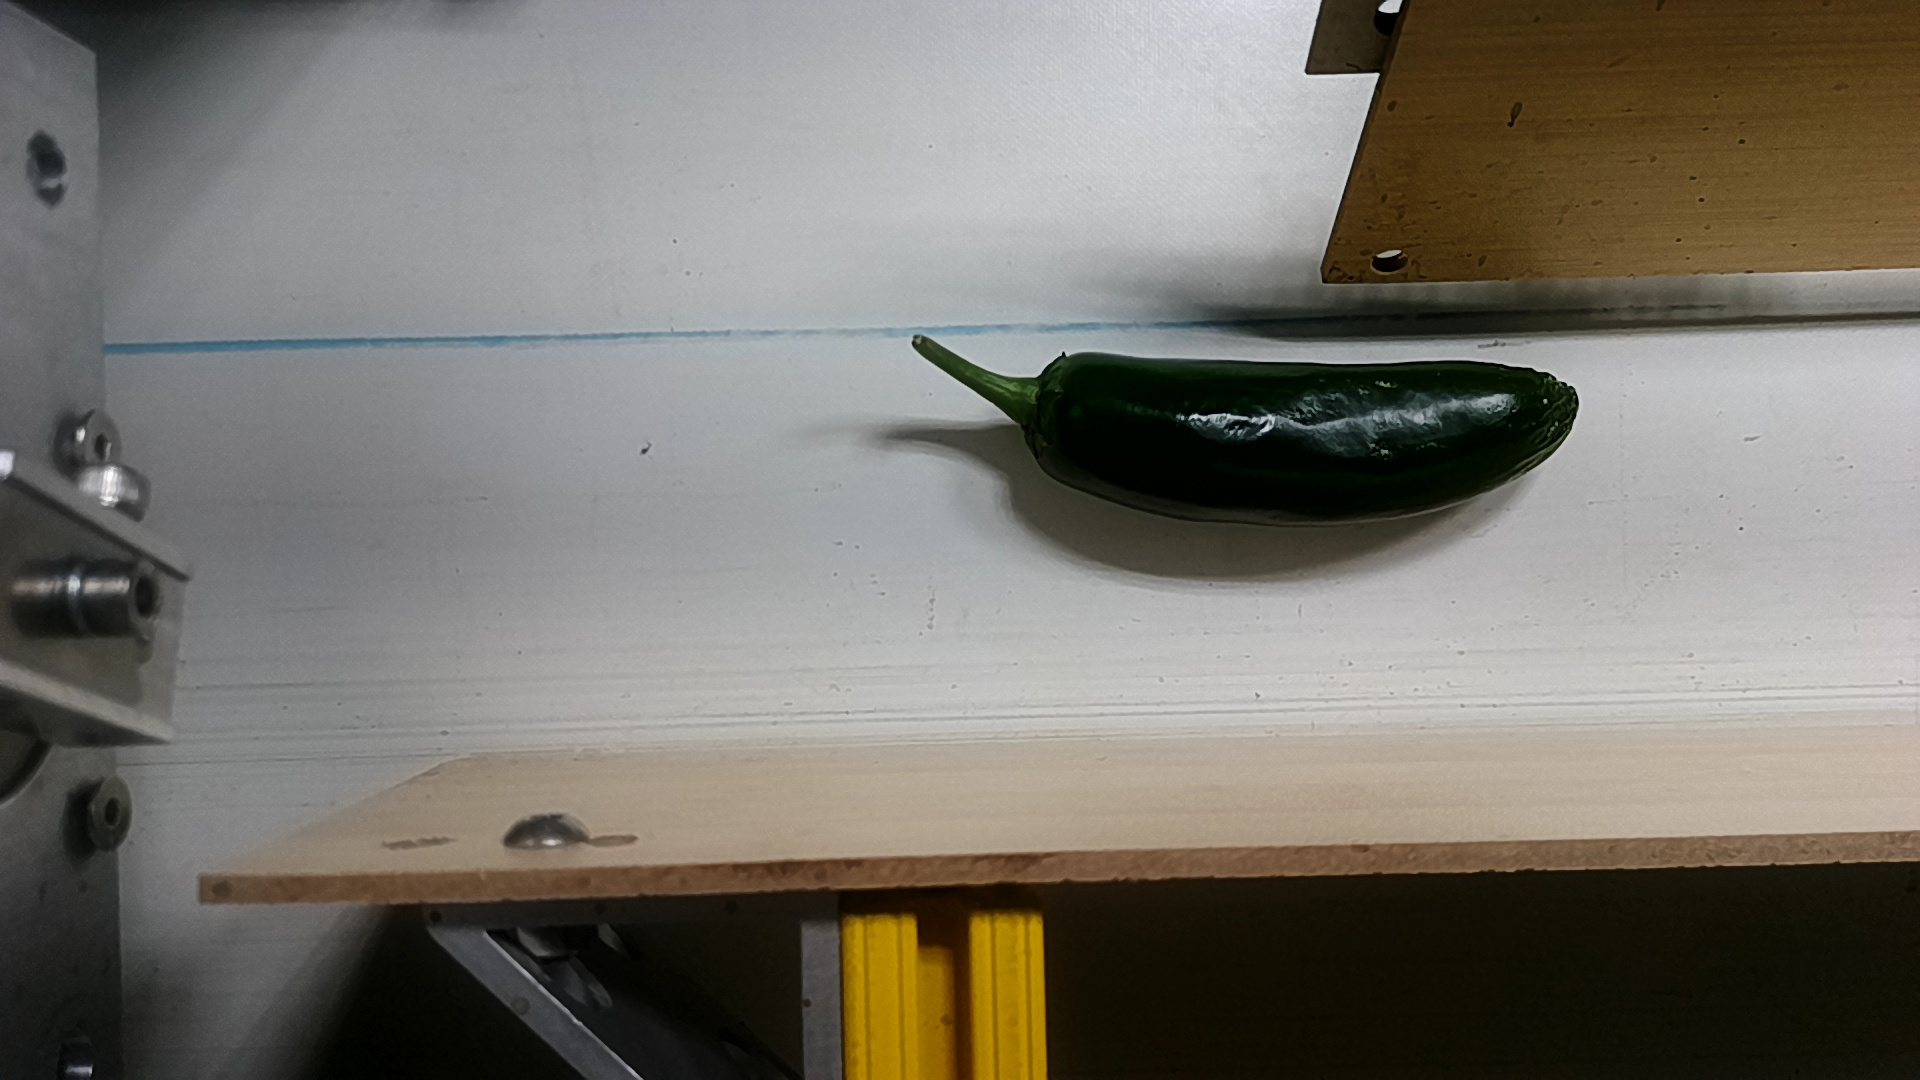Cut Point: (1007, 334, 1112, 502)
